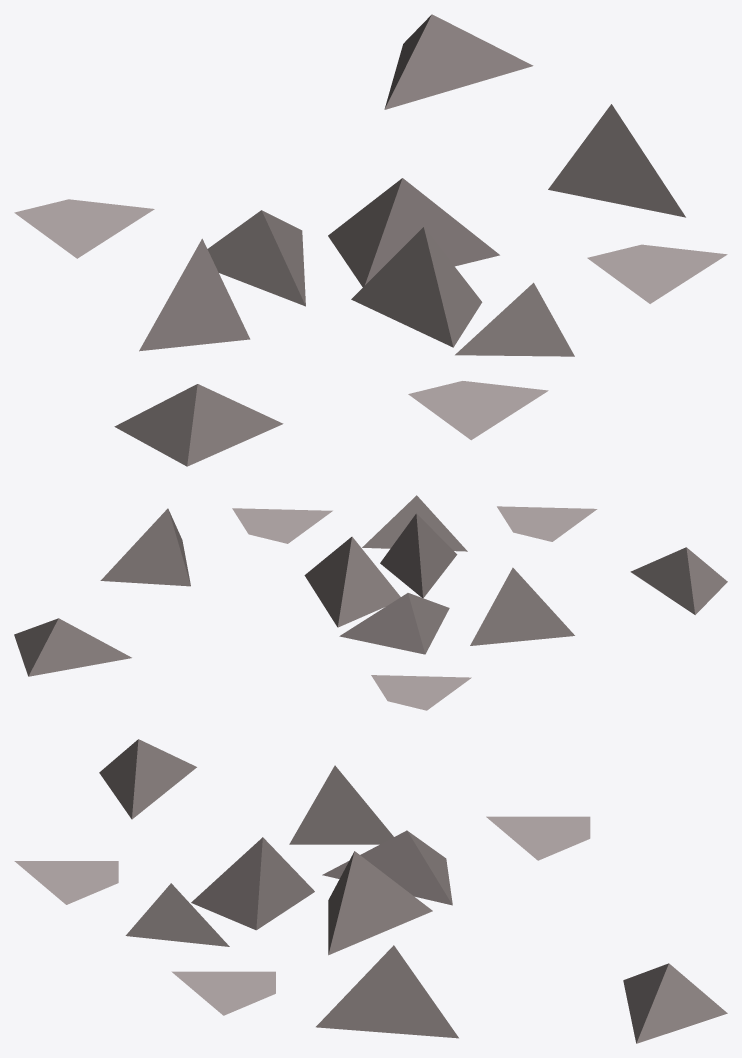
The picture shows the model from 3 angles, top to bottom: view 1: azimuth 30°, elevation 25°; view 2: azimuth 150°, elevation 25°; view 3: azimuth 270°, elevation 25°; orthographic projection. The views are drawn at different scales.
Bounding box in the file's own units: 100 × 12 × 109.
Materials: 1 (1 with a texture image).
